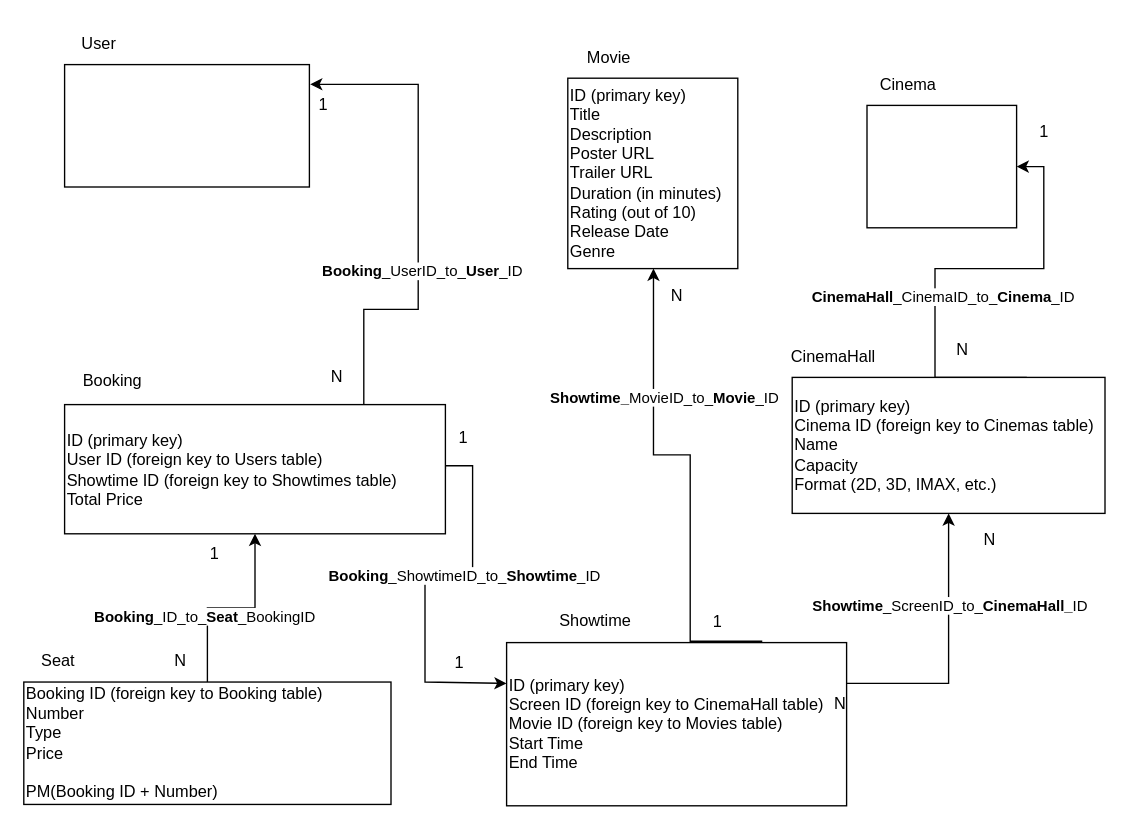
Image size: 1129x830. Some labels were removed from this diagram. Here are the shapes that lost their labels. From the top down, the centre of each, then its label:
(x=186, y=125): ID (primary key) Name Email Password Role (admin, customer)
(x=941, y=166): ID (primary key) Name Address Phone Number Email
